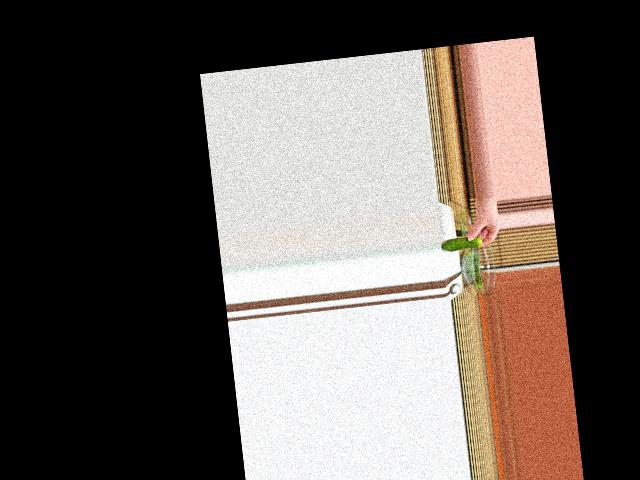cucumber: (441, 235, 482, 252)
